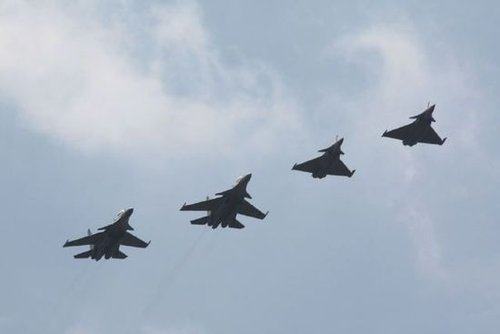airplane: (175, 170, 268, 234), (58, 204, 153, 264), (379, 103, 449, 149), (286, 137, 356, 180)
